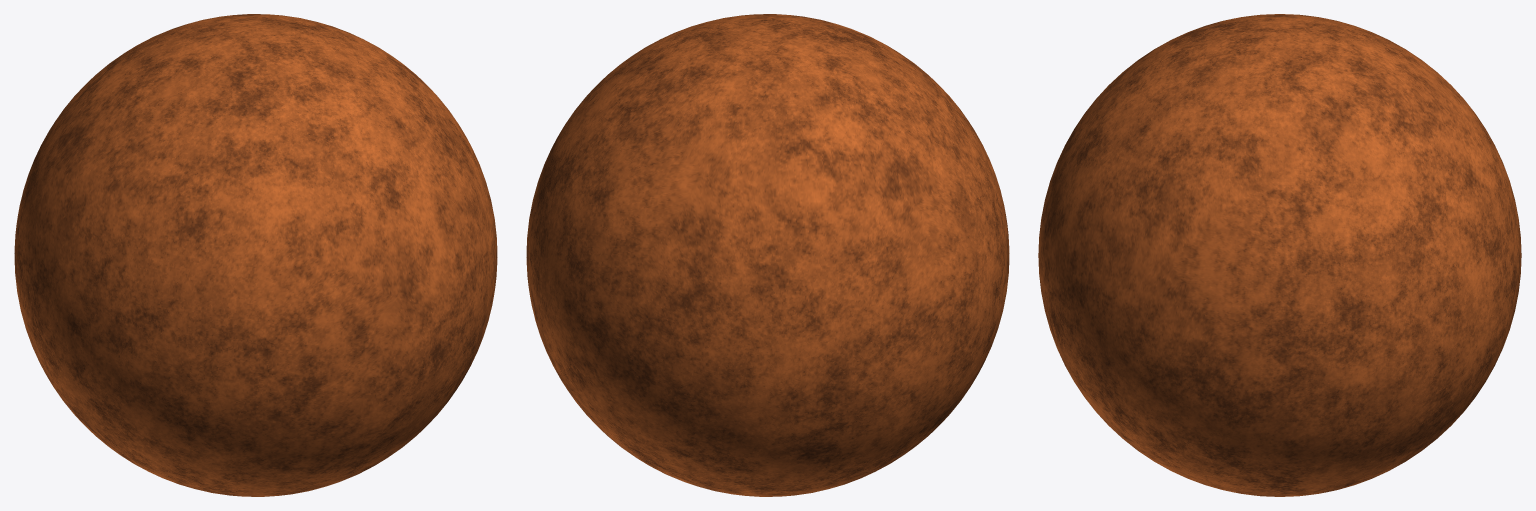
File: lugenia.glb
3 views of the same model, side by side, from view 1: azimuth 30°, elevation 25°; view 2: azimuth 150°, elevation 25°; view 3: azimuth 270°, elevation 25° (orthographic).
Visible parts, largest first — view 1: Planet; view 2: Planet; view 3: Planet.
Part boxes in pixels (x1=…): Planet: x1=14, y1=14, x2=497, y2=496; Planet: x1=526, y1=14, x2=1009, y2=496; Planet: x1=1038, y1=14, x2=1521, y2=496.
Size of the model in its own units: 2 by 2 by 2.
Materials: 1 (1 with a texture image).
